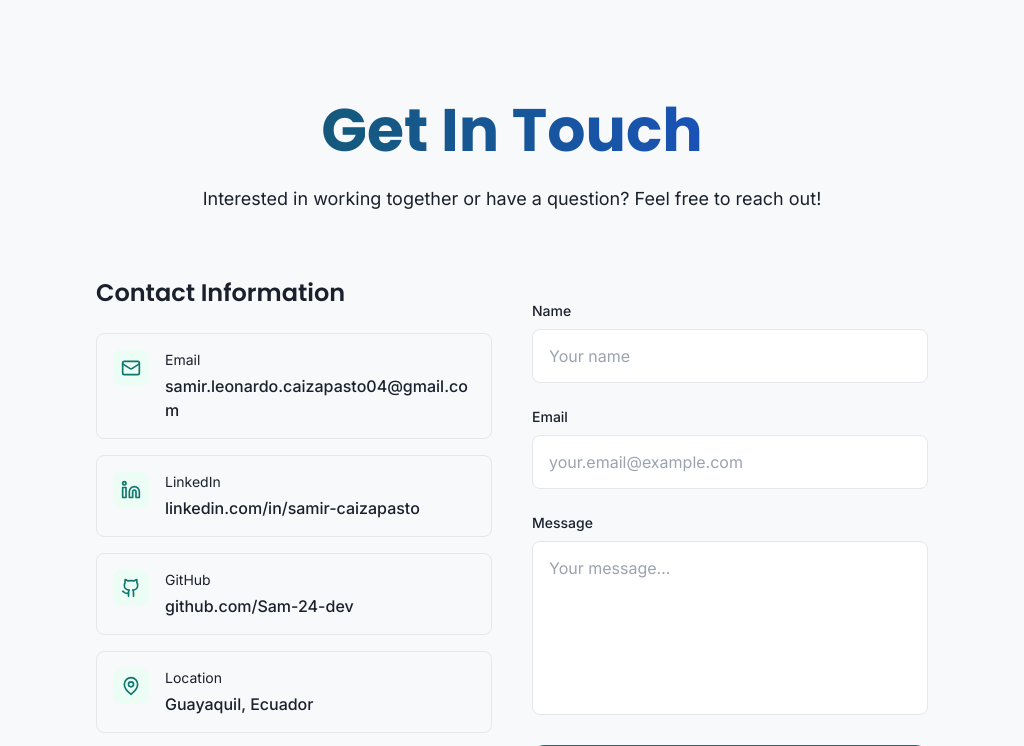
Test: Contact form › blocks repeat submissions during the client cooldown window
In the field labelled "Name": (730, 356) [532,329,928,383], type "Samir"
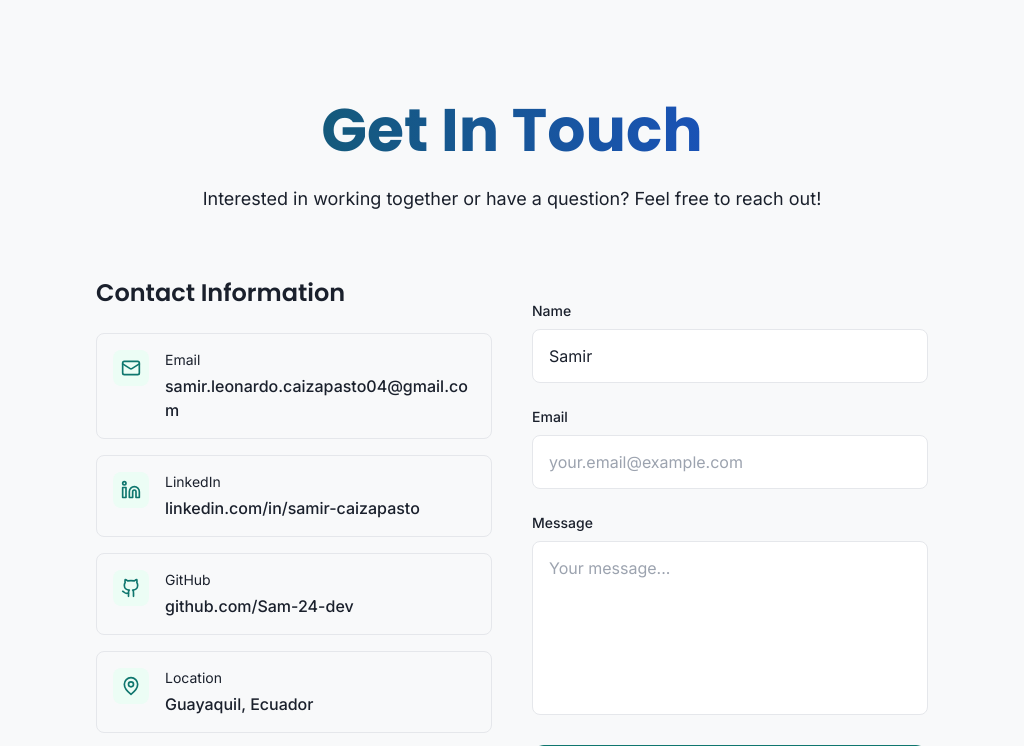
In the field labelled "Email": (730, 462) [532,435,928,489], type "samir@example.com"
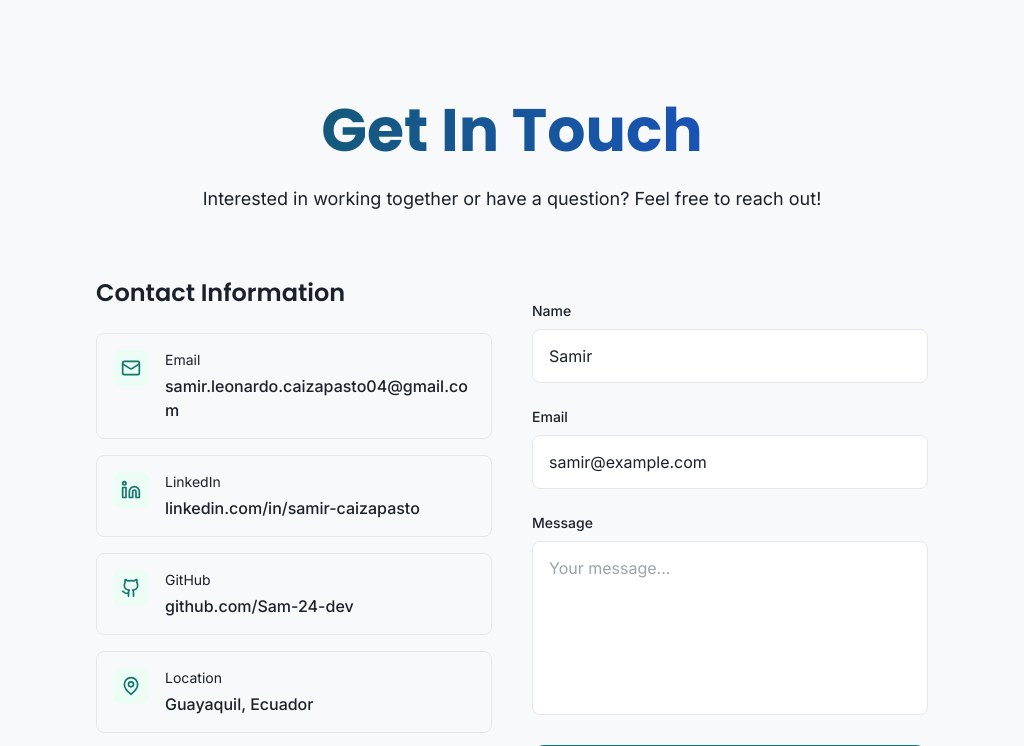
In the text box labelled "Message": (730, 628) [532,541,928,715], type "Hello there. I would like to discuss an analyst opportunity."
(page scrolled)
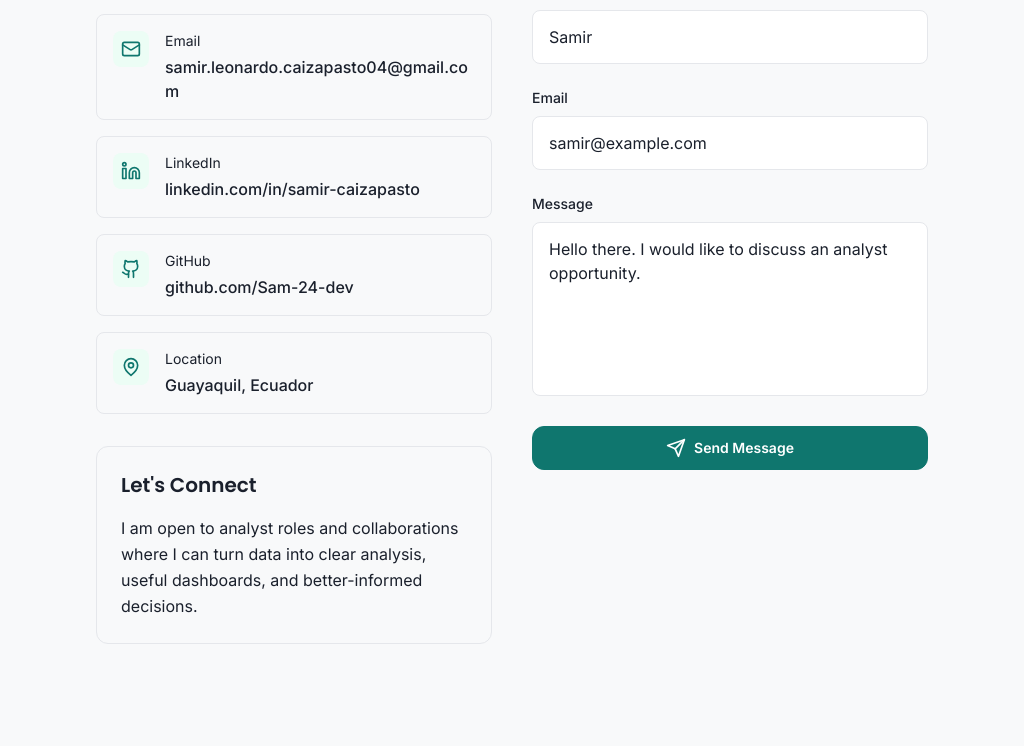
Click the button "Send Message": (730, 448) [532,426,928,470]
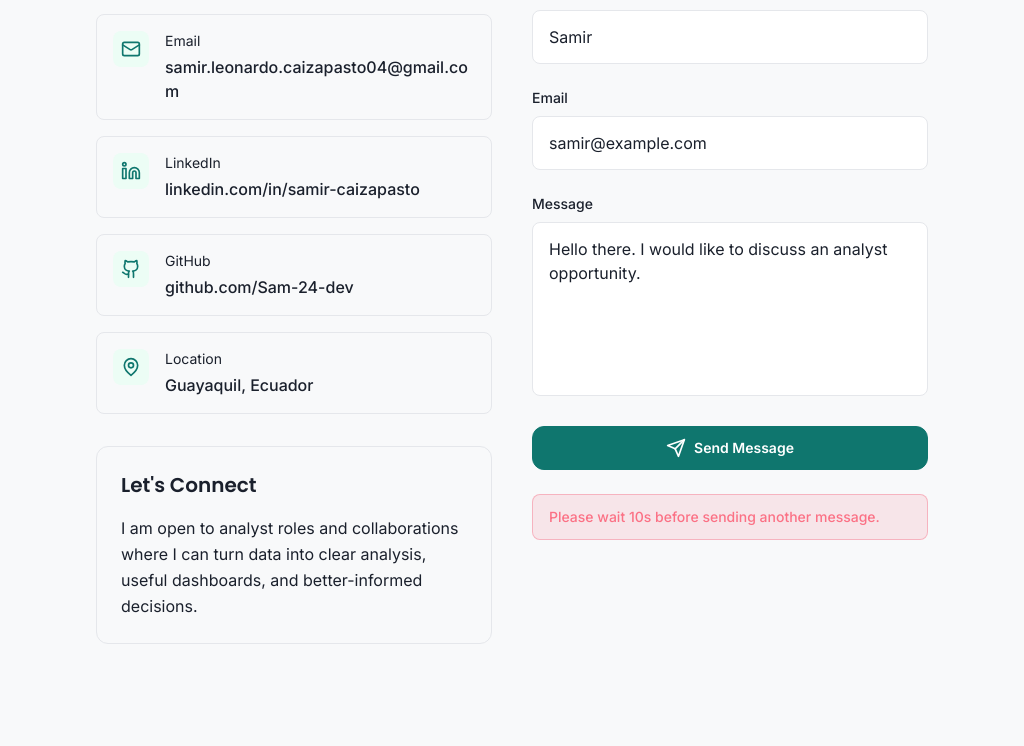
expect the text "Please wait 10s before sending another message." is shown: met, box [532,494,928,540]
